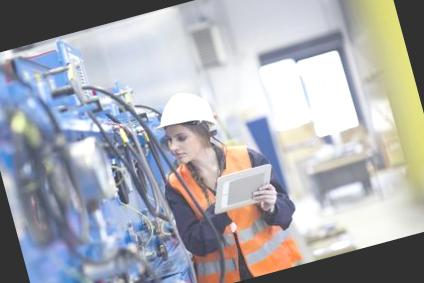helmet: (144, 81, 224, 144)
person: (133, 66, 312, 283)
